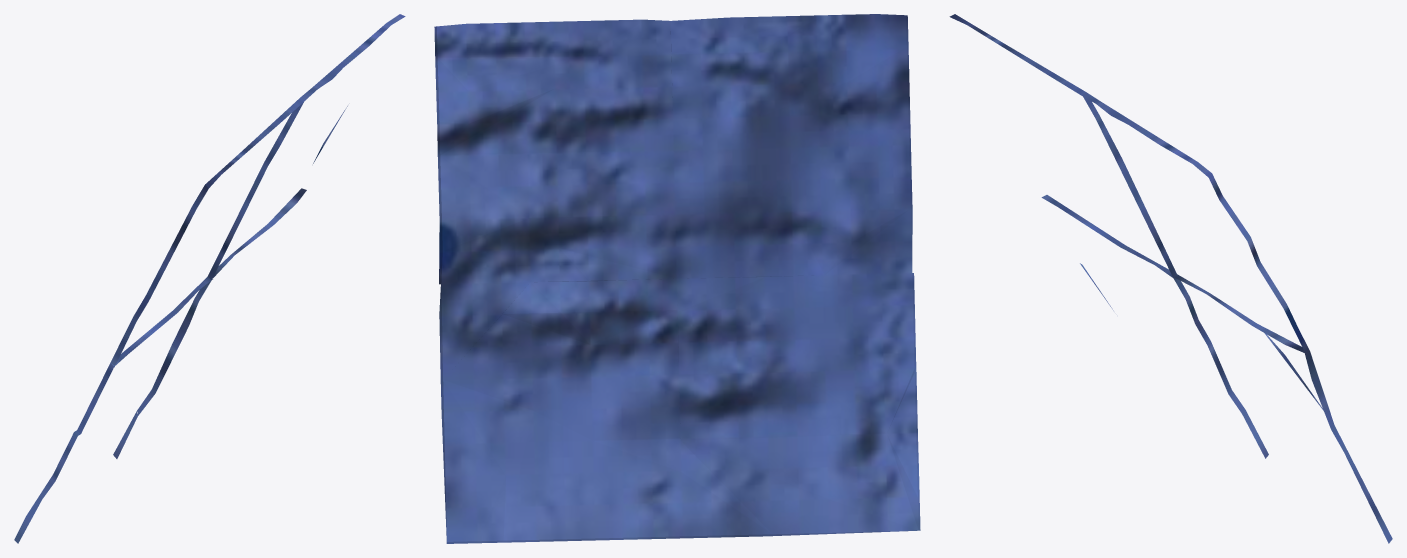
3 views of the same model, side by side, from view 1: azimuth 30°, elevation 25°; view 2: azimuth 150°, elevation 25°; view 3: azimuth 270°, elevation 25° (orthographic). The views are drawn at different scales.
Size of the model in its own units: 39474 by 35886 by 34406.
Materials: 1 (1 with a texture image).
